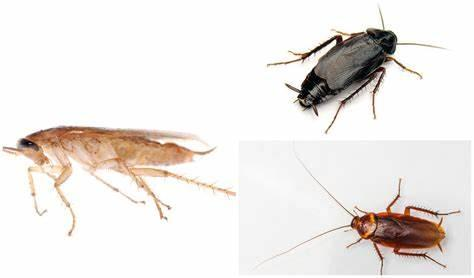cockroach: (11, 123, 202, 188), (290, 27, 398, 113), (342, 200, 448, 258)
